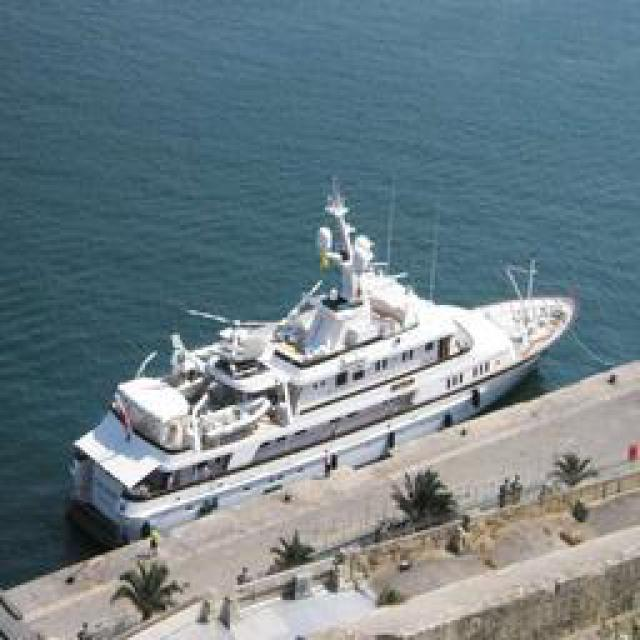Ship: (50, 178, 565, 556)
